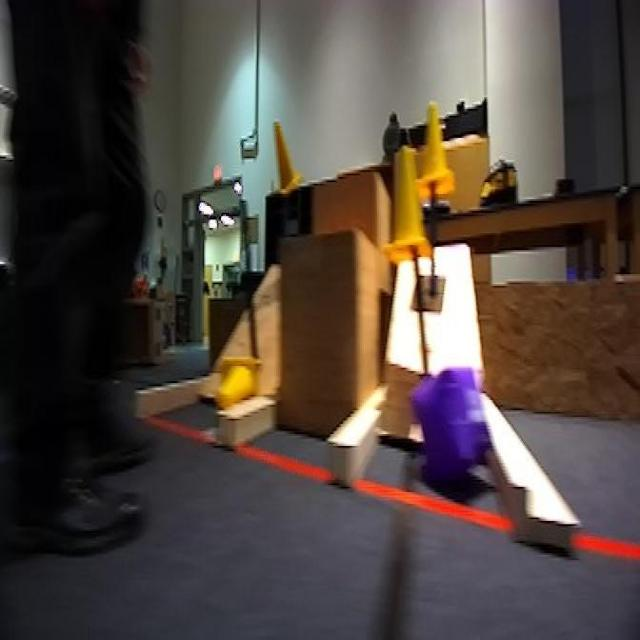frc_cone: (386, 145, 434, 272), (412, 97, 457, 204), (209, 359, 261, 414), (270, 116, 306, 194)
frc_cube: (410, 361, 492, 499)
